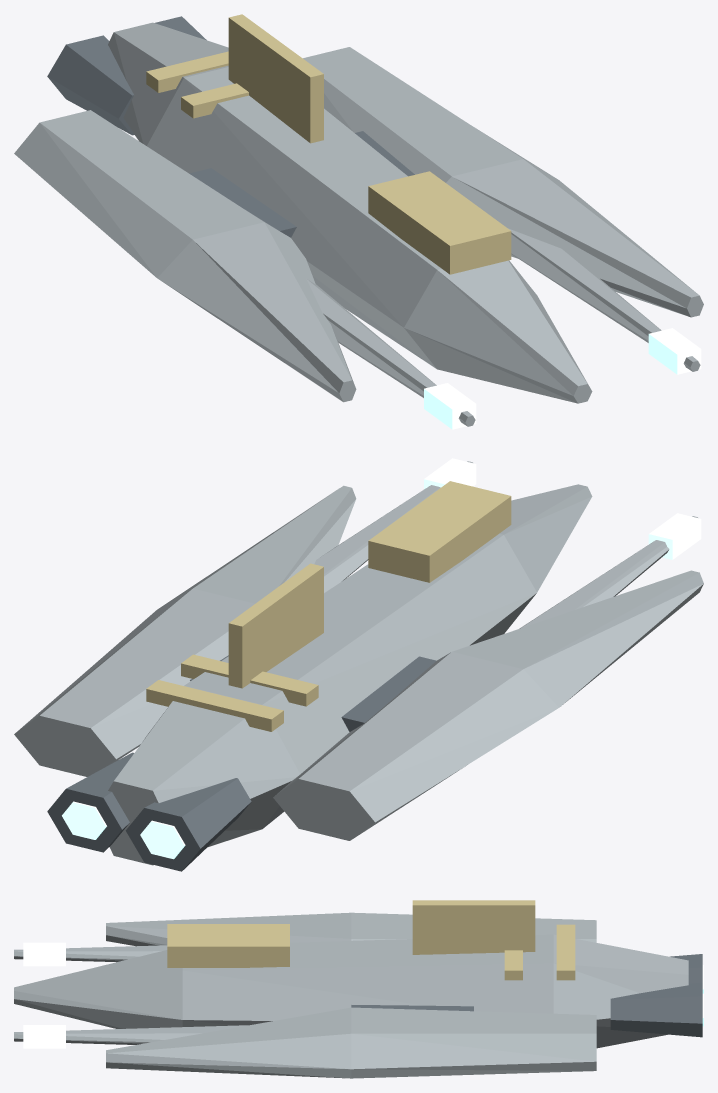
3 views of the same model, one above another, from view 1: azimuth 30°, elevation 25°; view 2: azimuth 150°, elevation 25°; view 3: azimuth 270°, elevation 25° (orthographic). The views are drawn at different scales.
Bounding box in the file's own units: 2.43 × 1.07 × 4.82.
